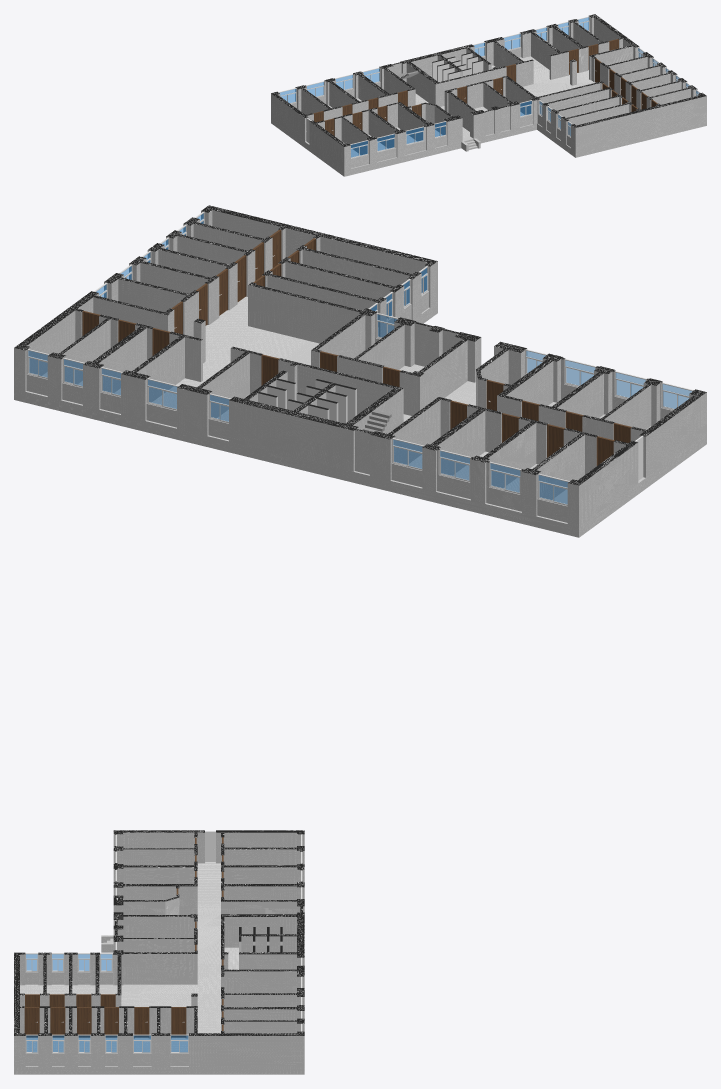
The picture shows the model from 3 angles, top to bottom: view 1: azimuth 30°, elevation 25°; view 2: azimuth 150°, elevation 25°; view 3: azimuth 270°, elevation 25°; orthographic projection. The views are drawn at different scales.
Parts seen in each view (by area): view 1: skpIhqdy5 (×7); view 2: skpIhqdy5 (×7); view 3: skpIhqdy5 (×7), 구성_요소7_1.
Part boxes in pixels (x1,y1,x2,y2): skpIhqdy5 (×7): [271, 14, 706, 176]; skpIhqdy5 (×7): [14, 205, 706, 537]; skpIhqdy5 (×7): [14, 832, 304, 1074]; 구성_요소7_1: [171, 1008, 185, 1037].
Size of the model in its own units: 2234 by 2420 by 150.
Materials: 9 (2 with a texture image).
